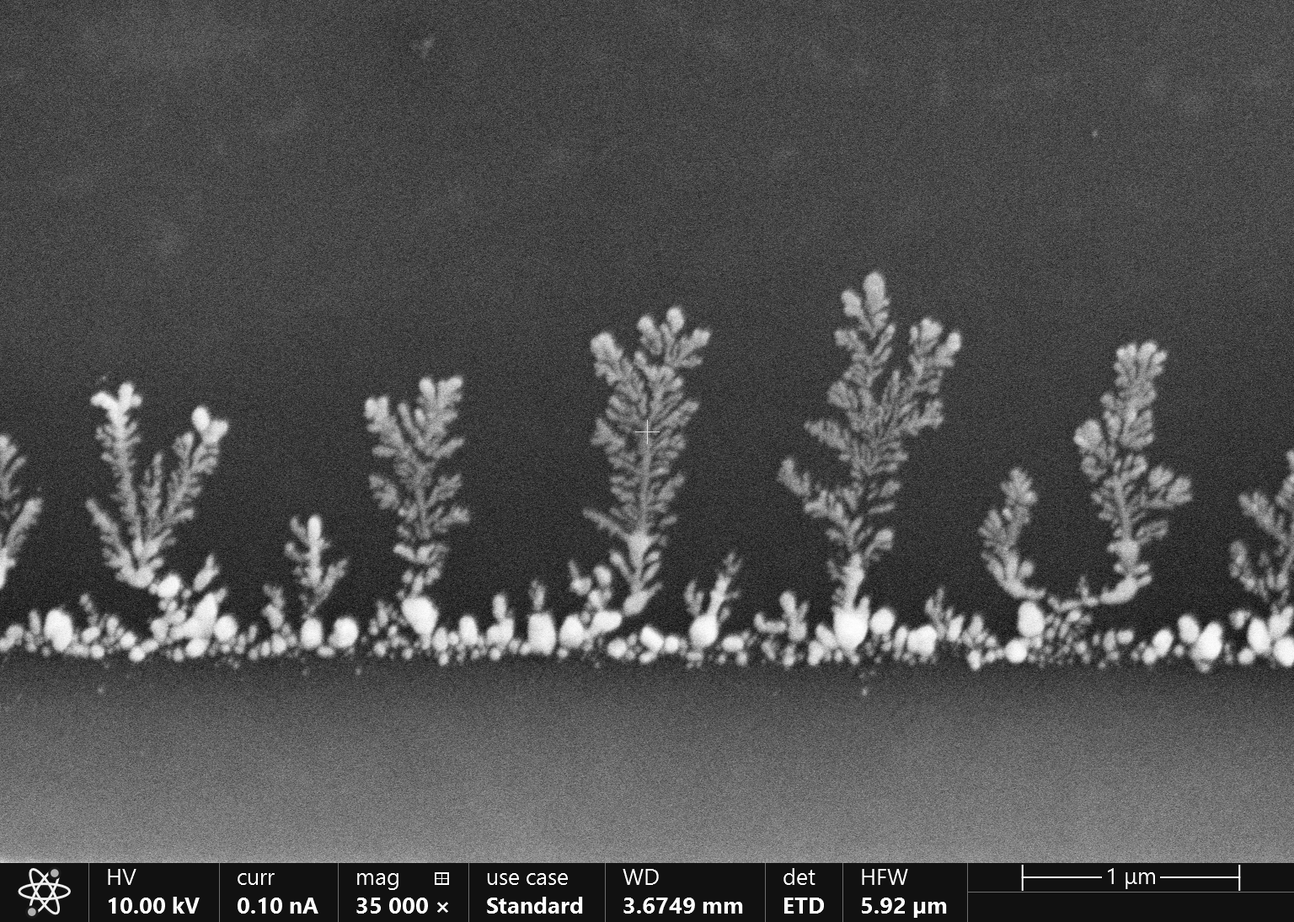dendrite: (364, 396, 470, 542), (91, 383, 176, 556), (583, 488, 665, 614), (403, 563, 483, 665), (162, 406, 228, 525), (1101, 342, 1167, 450), (105, 574, 184, 661), (86, 500, 163, 587), (1105, 457, 1167, 565), (1049, 573, 1151, 637), (809, 554, 868, 664), (301, 515, 347, 647), (967, 602, 1051, 669), (398, 375, 463, 459), (172, 588, 236, 657), (691, 574, 739, 666), (0, 496, 43, 591), (561, 587, 621, 650), (892, 608, 963, 661), (805, 490, 861, 548), (1238, 606, 1292, 663), (45, 608, 104, 657), (982, 554, 1045, 598), (835, 323, 895, 365), (1179, 615, 1222, 672), (1238, 493, 1286, 544), (635, 420, 668, 486), (842, 290, 886, 336), (488, 593, 518, 659), (848, 388, 888, 431), (997, 508, 1028, 563), (640, 625, 685, 662), (666, 330, 709, 366), (904, 355, 938, 399), (1141, 478, 1191, 507), (890, 410, 943, 437), (374, 625, 413, 659), (520, 614, 554, 653), (142, 452, 162, 518), (1002, 468, 1036, 503), (778, 458, 809, 494), (249, 635, 295, 659), (635, 351, 673, 380), (1140, 630, 1172, 664), (851, 444, 882, 478), (869, 608, 894, 649), (591, 419, 623, 451), (962, 614, 995, 645), (1, 457, 25, 499), (1268, 548, 1292, 588), (330, 617, 357, 652), (864, 271, 888, 310), (815, 421, 848, 449), (80, 593, 99, 641), (393, 544, 446, 561), (662, 401, 698, 426), (934, 331, 960, 365), (263, 585, 283, 627), (661, 307, 683, 345), (723, 631, 748, 664), (1104, 630, 1132, 659), (591, 332, 621, 359), (655, 393, 682, 423), (195, 554, 218, 589), (638, 316, 660, 352), (865, 528, 893, 556), (780, 591, 807, 620), (595, 361, 630, 383), (619, 383, 645, 412), (1074, 421, 1100, 449), (609, 476, 638, 501), (569, 560, 590, 593), (659, 474, 684, 500), (884, 442, 907, 470), (235, 624, 257, 653), (370, 601, 389, 634), (608, 635, 635, 658), (1241, 571, 1265, 596), (837, 483, 862, 507), (827, 382, 852, 406), (1102, 412, 1121, 443), (26, 609, 40, 651), (926, 587, 944, 619), (754, 613, 784, 632), (979, 510, 1000, 537), (1, 625, 22, 650), (1275, 639, 1294, 666), (685, 580, 701, 612), (1231, 541, 1245, 576), (1150, 466, 1172, 488), (1082, 458, 1104, 480), (1277, 474, 1292, 505), (650, 385, 664, 417), (530, 579, 544, 608), (609, 453, 634, 469), (843, 363, 864, 382), (922, 318, 940, 340), (1, 436, 15, 464), (724, 551, 741, 574), (888, 369, 901, 396), (1231, 610, 1249, 628), (657, 436, 684, 448), (1056, 636, 1072, 656), (865, 368, 881, 388), (856, 527, 873, 545), (881, 480, 900, 496), (869, 502, 895, 513), (595, 566, 610, 585), (644, 561, 659, 580), (95, 427, 110, 446), (1076, 641, 1089, 662), (290, 516, 303, 536), (790, 622, 805, 639), (609, 395, 626, 410), (826, 559, 838, 579), (876, 347, 891, 363), (783, 646, 794, 667), (1099, 502, 1112, 519), (1091, 490, 1108, 503), (762, 641, 774, 659), (682, 651, 695, 667), (916, 342, 933, 354), (286, 544, 300, 558), (1132, 512, 1146, 526), (167, 649, 184, 660), (669, 377, 683, 390), (826, 529, 842, 540), (660, 515, 676, 526), (1020, 561, 1033, 574), (1131, 563, 1149, 572), (899, 403, 912, 415), (318, 646, 333, 656), (1124, 453, 1134, 468), (927, 399, 941, 409), (910, 325, 918, 342), (1225, 644, 1232, 662), (805, 421, 814, 435), (865, 641, 874, 655), (402, 571, 413, 582), (623, 505, 633, 517), (606, 409, 618, 419), (866, 489, 878, 499), (472, 649, 485, 658), (1259, 551, 1268, 564), (647, 551, 660, 560), (228, 659, 239, 669), (903, 654, 913, 664), (182, 589, 192, 599), (1174, 646, 1183, 657), (721, 608, 730, 619), (1097, 448, 1106, 459), (1112, 460, 1121, 471), (716, 654, 725, 664), (559, 648, 568, 658), (1003, 508, 1012, 518), (1052, 617, 1060, 628), (1281, 589, 1288, 601), (1286, 451, 1292, 465), (1093, 633, 1100, 645), (11, 503, 18, 515), (1046, 631, 1055, 640), (583, 612, 591, 622), (839, 453, 850, 460), (666, 451, 677, 458), (1114, 563, 1123, 571), (41, 648, 49, 657), (835, 651, 842, 661), (1132, 651, 1139, 661), (2, 511, 9, 521), (282, 624, 289, 633), (828, 493, 834, 503), (1098, 662, 1106, 669), (874, 656, 881, 663), (869, 482, 876, 489), (1046, 646, 1052, 654), (862, 688, 868, 696), (1029, 655, 1035, 662), (1125, 486, 1131, 493), (1068, 659, 1075, 665), (883, 403, 890, 408), (1059, 661, 1064, 667), (1040, 656, 1045, 661), (1049, 658, 1054, 663), (860, 672, 865, 677), (938, 371, 942, 377), (748, 638, 752, 643), (1039, 664, 1044, 668), (869, 671, 874, 675), (37, 487, 41, 491), (885, 455, 890, 458), (928, 361, 933, 363), (632, 373, 634, 375)
